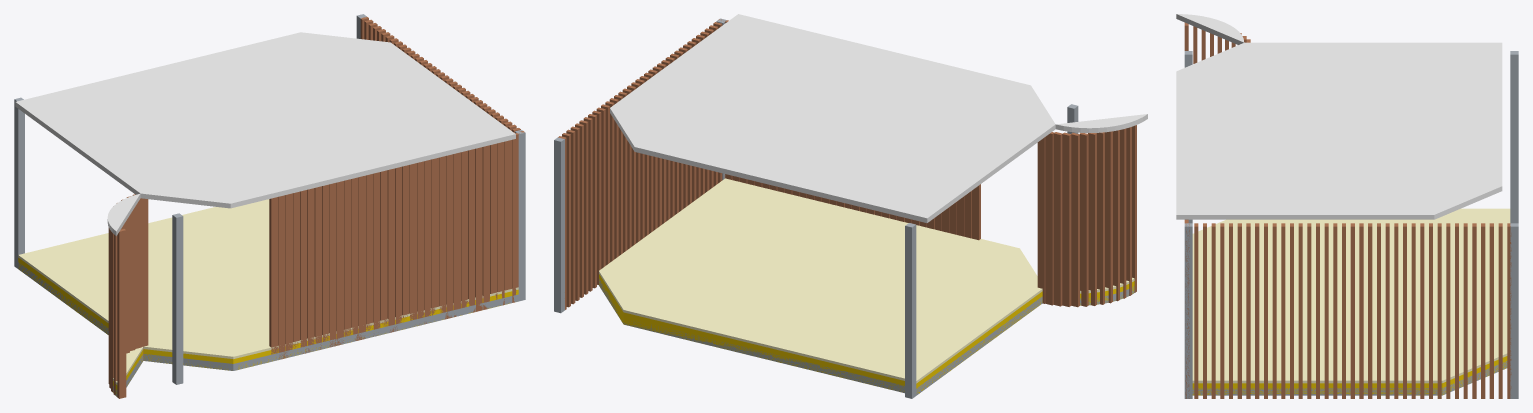
Rendered from Quầy thu ngân mặt đá, lam nhựa.obj.
3 views of the same model, side by side, from view 1: azimuth 30°, elevation 25°; view 2: azimuth 150°, elevation 25°; view 3: azimuth 270°, elevation 25° (orthographic). The views are drawn at different scales.
Visible parts, largest first — view 1: mat_da_trang, op_lam_nhua_gia_go, dai_led_hat_chan, khung_xuong_sat_hop, vien_nep_nhom_vang; view 2: mat_da_trang, dai_led_hat_chan, op_lam_nhua_gia_go, khung_xuong_sat_hop, vien_nep_nhom_vang; view 3: mat_da_trang, dai_led_hat_chan, op_lam_nhua_gia_go, khung_xuong_sat_hop, vien_nep_nhom_vang.
Part boxes in pixels (<box>): mat_da_trang: <box>15,32,515,235</box>; op_lam_nhua_gia_go: <box>108,17,524,398</box>; dai_led_hat_chan: <box>18,199,518,384</box>; khung_xuong_sat_hop: <box>14,14,525,396</box>; vien_nep_nhom_vang: <box>18,257,518,396</box>; mat_da_trang: <box>610,14,1147,222</box>; dai_led_hat_chan: <box>599,178,1134,383</box>; op_lam_nhua_gia_go: <box>558,19,1136,309</box>; khung_xuong_sat_hop: <box>554,18,1134,398</box>; vien_nep_nhom_vang: <box>599,274,1134,393</box>; mat_da_trang: <box>1176,14,1502,219</box>; dai_led_hat_chan: <box>1192,208,1510,383</box>; op_lam_nhua_gia_go: <box>1184,22,1511,398</box>; khung_xuong_sat_hop: <box>1184,51,1518,398</box>; vien_nep_nhom_vang: <box>1192,356,1507,395</box>.
Bounding box in the file's own units: 1.81 × 0.72 × 1.26.
